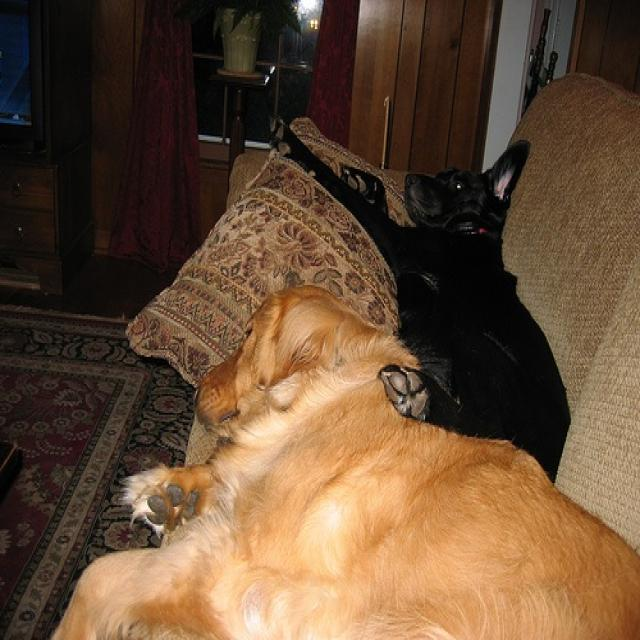dog: (54, 288, 638, 638), (265, 119, 566, 478)
pottedplant: (204, 0, 290, 72)
sofa: (142, 70, 639, 638)
tvmonitor: (0, 0, 55, 159)
